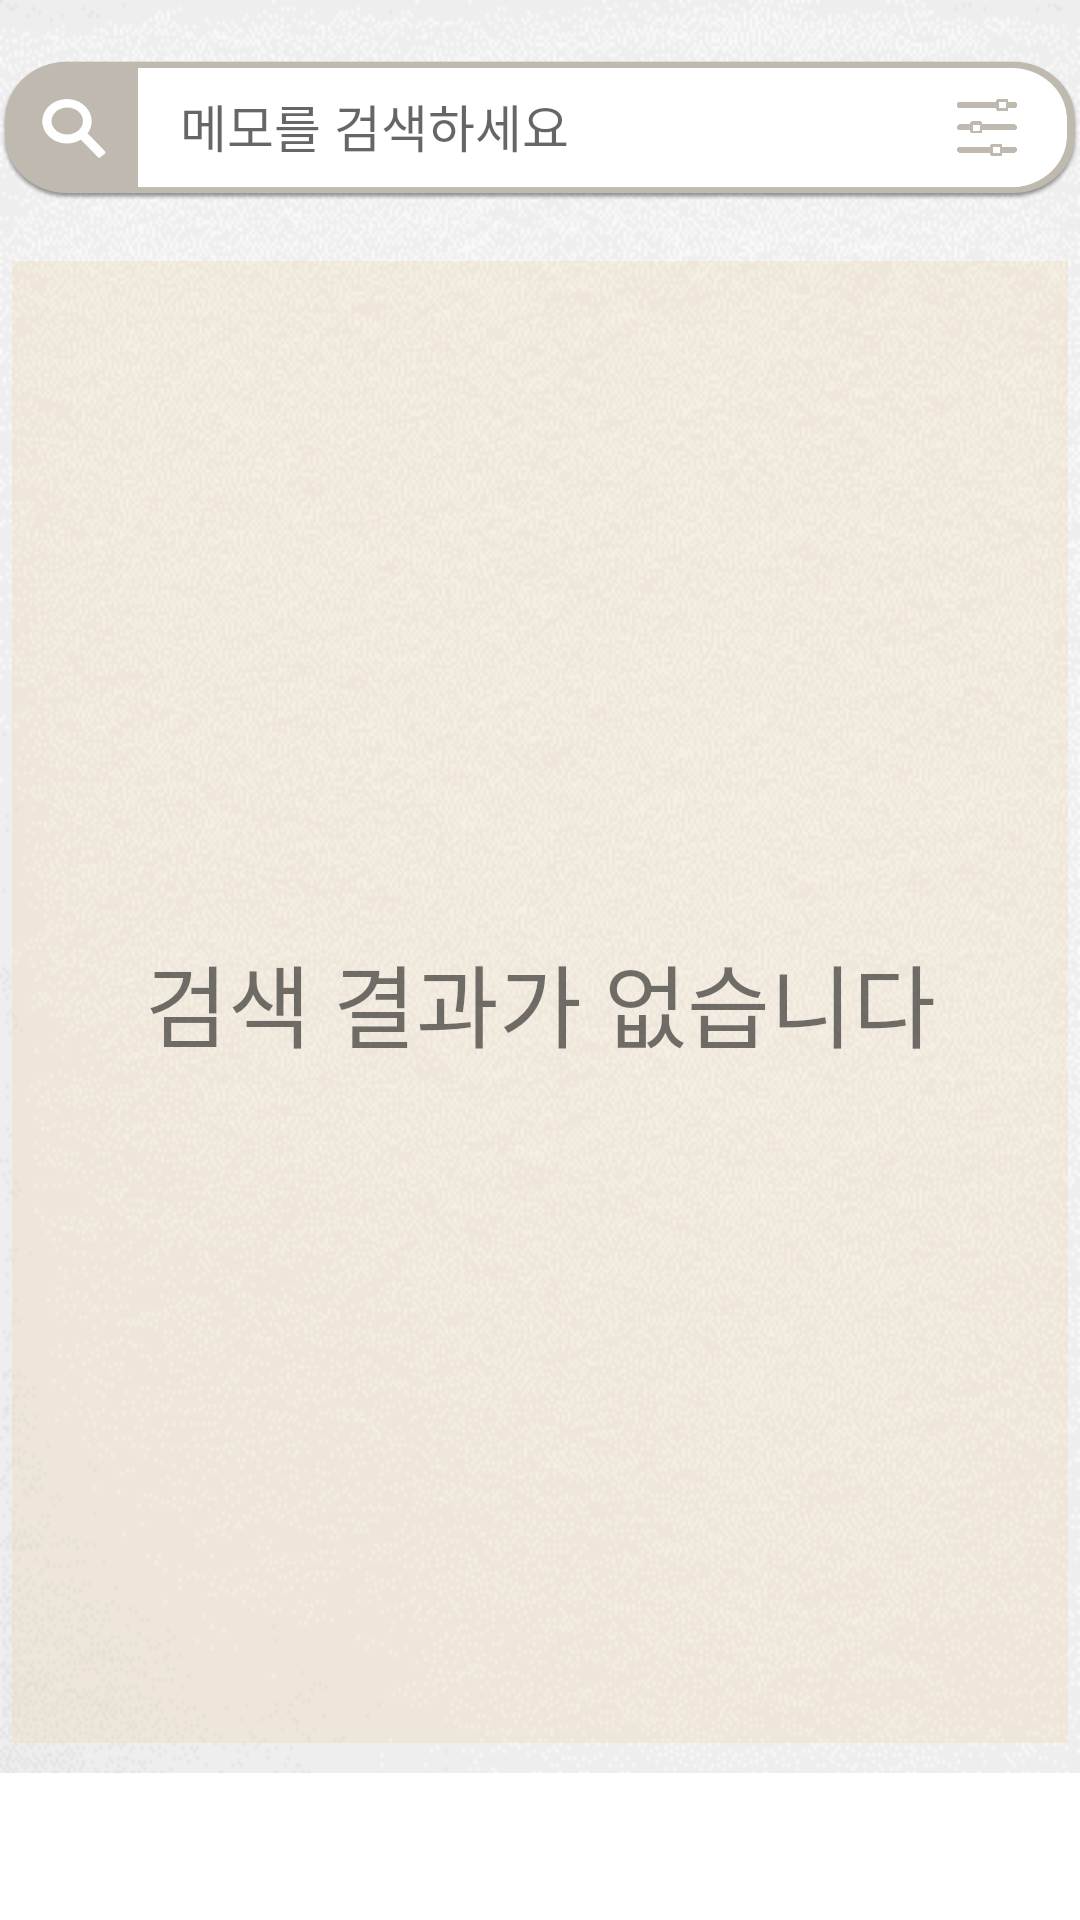

Named icons in this screenshot (1080x1920) and their bounding boxes, {"x1": x1, "y1": y1, "x2": x2, "y2": y2}:
grayfilter: {"x1": 957, "y1": 99, "x2": 1017, "y2": 156}
